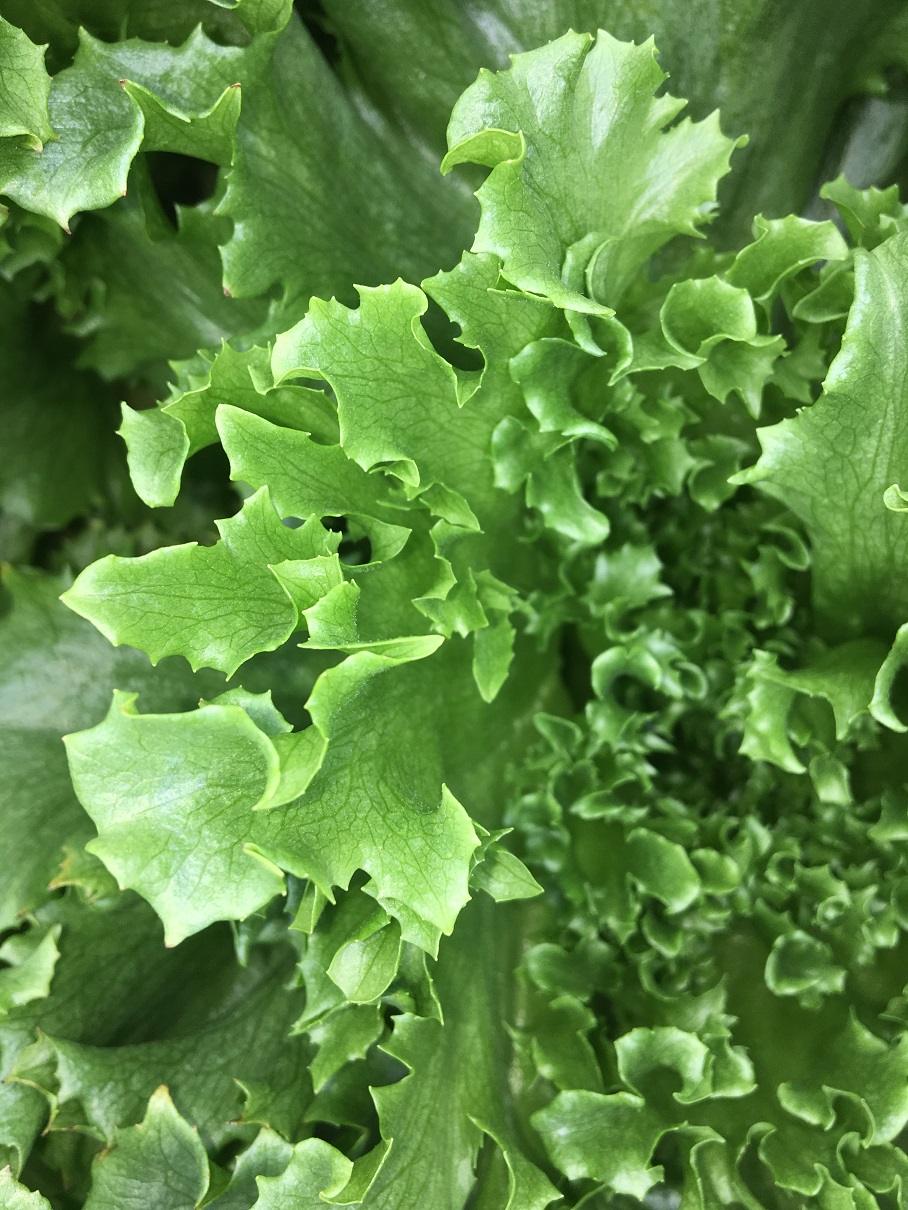tipburn: (34, 839, 85, 897), (201, 268, 249, 314), (134, 1062, 179, 1105), (5, 892, 46, 933), (248, 1109, 288, 1151), (217, 65, 258, 103), (21, 125, 60, 164), (47, 213, 87, 251), (217, 1096, 255, 1136), (91, 1130, 129, 1169), (102, 61, 140, 99), (20, 1012, 57, 1050), (110, 177, 143, 210), (1, 1061, 22, 1101), (1, 1147, 21, 1185)
